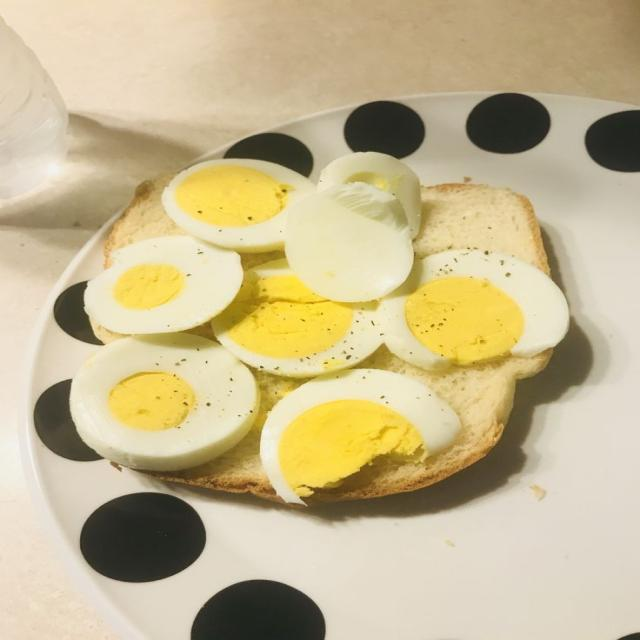eggs: (44, 157, 548, 478)
